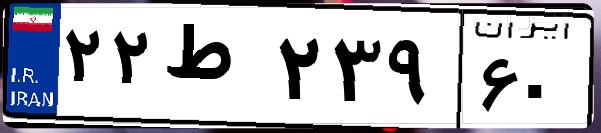0: (525, 38, 570, 115)
2: (270, 28, 330, 110), (57, 26, 110, 100), (110, 28, 158, 98)
3: (330, 28, 385, 110)
6: (475, 38, 525, 113)
9: (385, 28, 445, 110)
ط: (158, 20, 270, 120)
